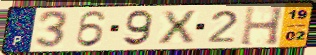2: (206, 9, 241, 44)
3: (33, 9, 70, 50)
6: (74, 9, 108, 49)
9: (121, 9, 155, 47)
H: (238, 5, 287, 47)
X: (157, 9, 198, 46)
